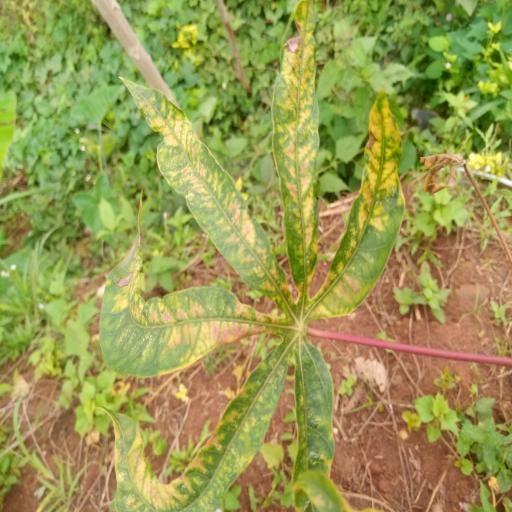Cassava_Mosaic: (96, 3, 405, 512)
